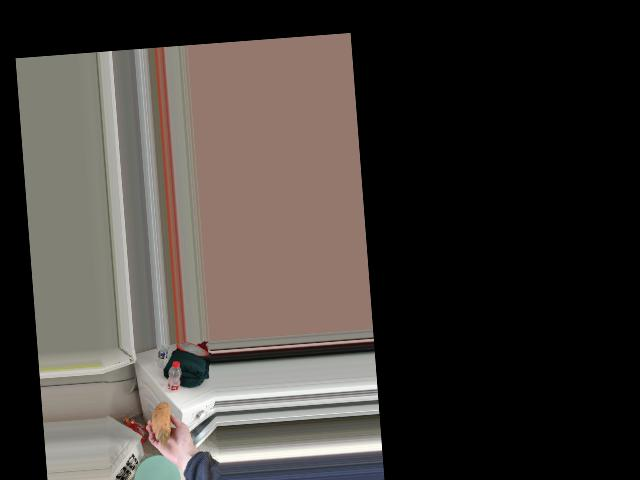sweet_potato: (151, 391, 172, 440)
